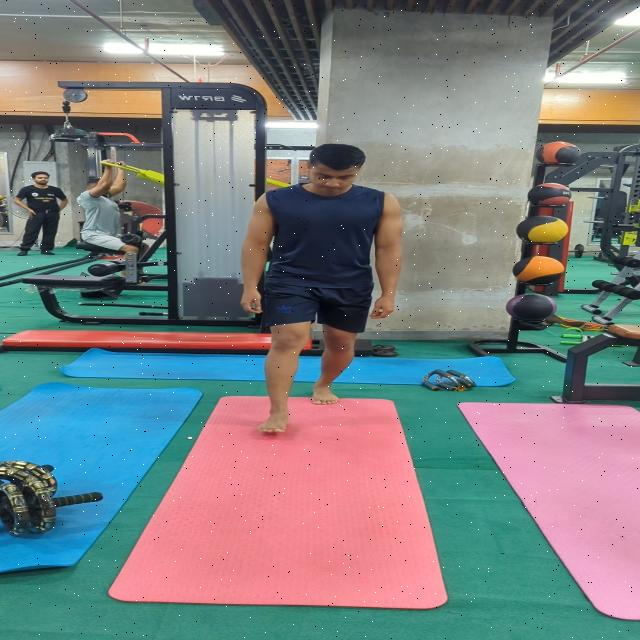Normal_Lunges: (232, 142, 406, 443)
